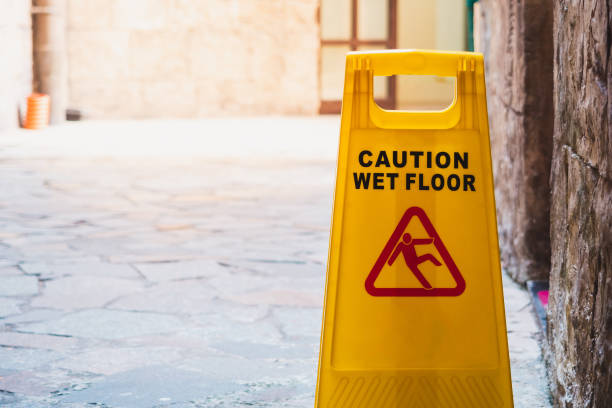wet caution sign: (329, 49, 509, 408)
